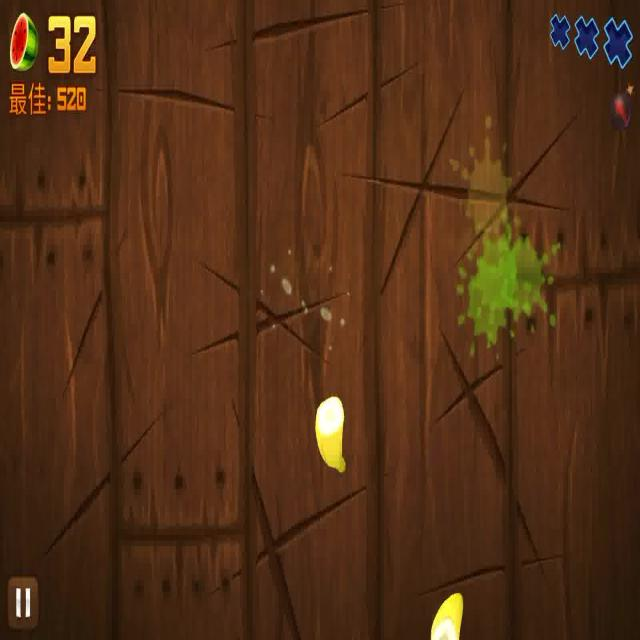fruit: (313, 392, 351, 487), (429, 582, 463, 640)
